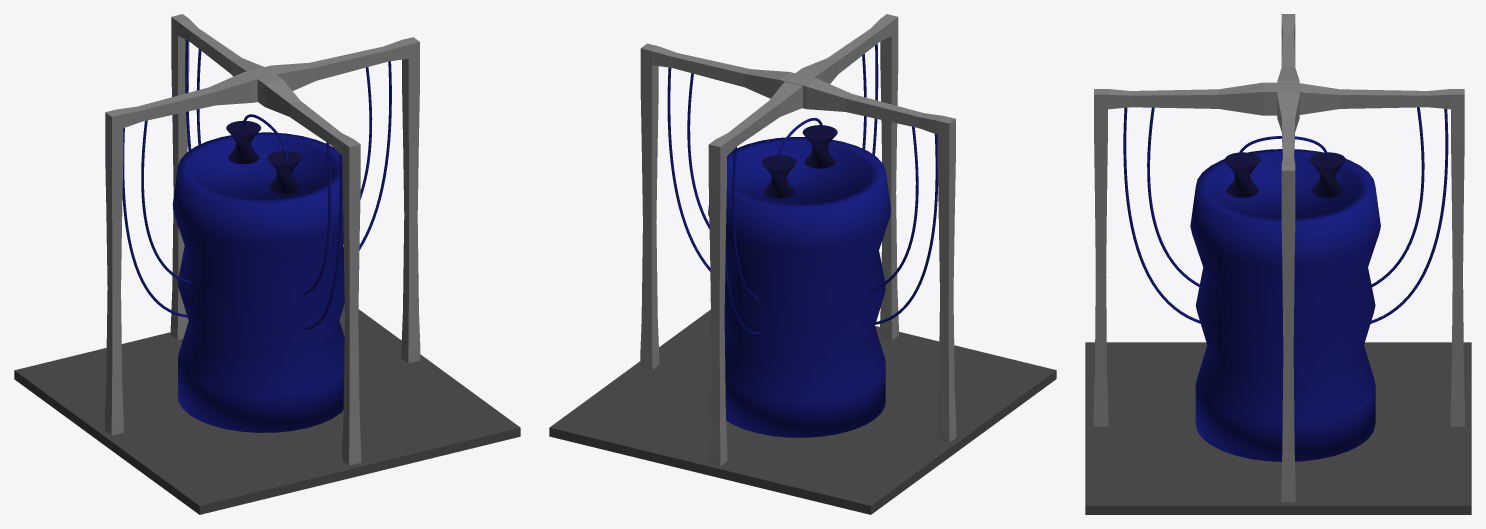
The model's file is PowerStorageLevel2.fbx.
The picture shows the model from 3 angles, left to right: view 1: azimuth 30°, elevation 25°; view 2: azimuth 150°, elevation 25°; view 3: azimuth 270°, elevation 25°; orthographic projection. The views are drawn at different scales.
Visible parts, largest first — view 1: Cylinder.001, Cube.001, Cube, Cylinder.003, Cylinder.002, NurbsPath.002, NurbsPath.005, NurbsPath.006, NurbsPath.007; view 2: Cylinder.001, Cube.001, Cube, Cylinder.002, Cylinder.003, NurbsPath.005, NurbsPath.006, NurbsPath.007; view 3: Cylinder.001, Cube.001, Cube, Cylinder.002, Cylinder.003, NurbsPath.002, NurbsPath.001, NurbsPath, NurbsPath.003.
Part boxes in pixels (bbox=[...]): Cylinder.001: bbox=[172, 132, 344, 432]; Cube.001: bbox=[14, 304, 520, 514]; Cube: bbox=[104, 14, 420, 465]; Cylinder.003: bbox=[226, 120, 260, 164]; Cylinder.002: bbox=[267, 150, 301, 194]; NurbsPath.002: bbox=[303, 153, 342, 329]; NurbsPath.005: bbox=[359, 61, 391, 250]; NurbsPath.006: bbox=[122, 128, 187, 317]; NurbsPath.007: bbox=[141, 120, 190, 284]; Cylinder.001: bbox=[708, 137, 890, 437]; Cube.001: bbox=[549, 309, 1056, 514]; Cube: bbox=[640, 14, 956, 466]; Cylinder.002: bbox=[802, 125, 837, 168]; Cylinder.003: bbox=[761, 155, 796, 198]; NurbsPath.005: bbox=[667, 67, 710, 271]; NurbsPath.006: bbox=[872, 134, 938, 324]; NurbsPath.007: bbox=[868, 126, 918, 291]; Cylinder.001: bbox=[1190, 149, 1380, 461]; Cube.001: bbox=[1085, 342, 1471, 514]; Cube: bbox=[1093, 14, 1464, 502]; Cylinder.002: bbox=[1224, 152, 1260, 197]; Cylinder.003: bbox=[1310, 152, 1345, 197]; NurbsPath.002: bbox=[1123, 107, 1200, 323]; NurbsPath.001: bbox=[1370, 108, 1448, 323]; NurbsPath: bbox=[1371, 107, 1424, 287]; NurbsPath.003: bbox=[1147, 107, 1199, 287].
Size of the model in its own units: 1.8 by 1.78 by 1.8.
